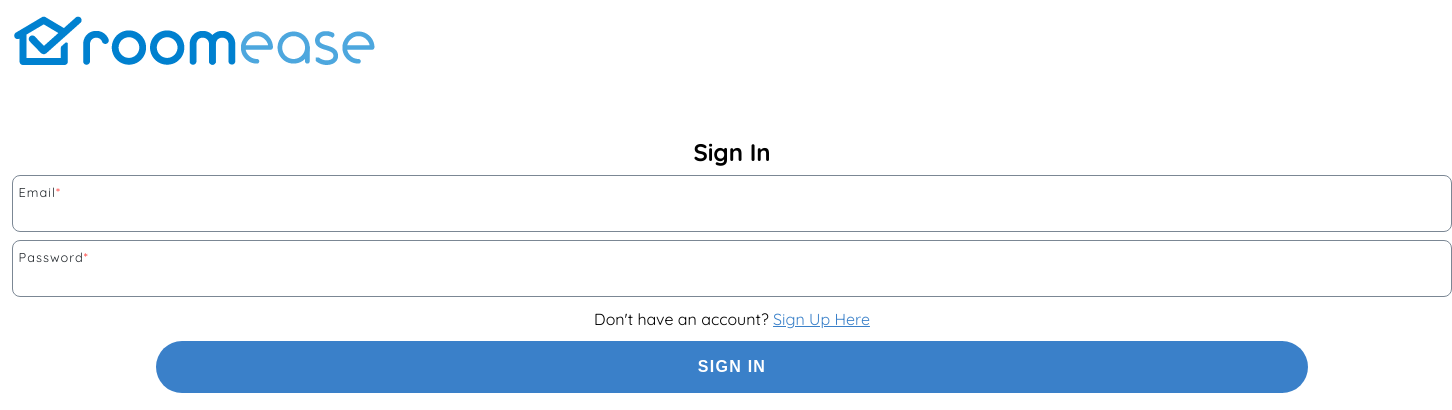
Test: Sign In Form Validation › should display all client-side errors when submitted with empty inputs
The width and height of the screenshot is (1452, 410).
In the field labelled "Email*": (732, 213) x1=17 y1=200 x2=1447 y2=227, type "mrkrabs@mrkrabs.com"
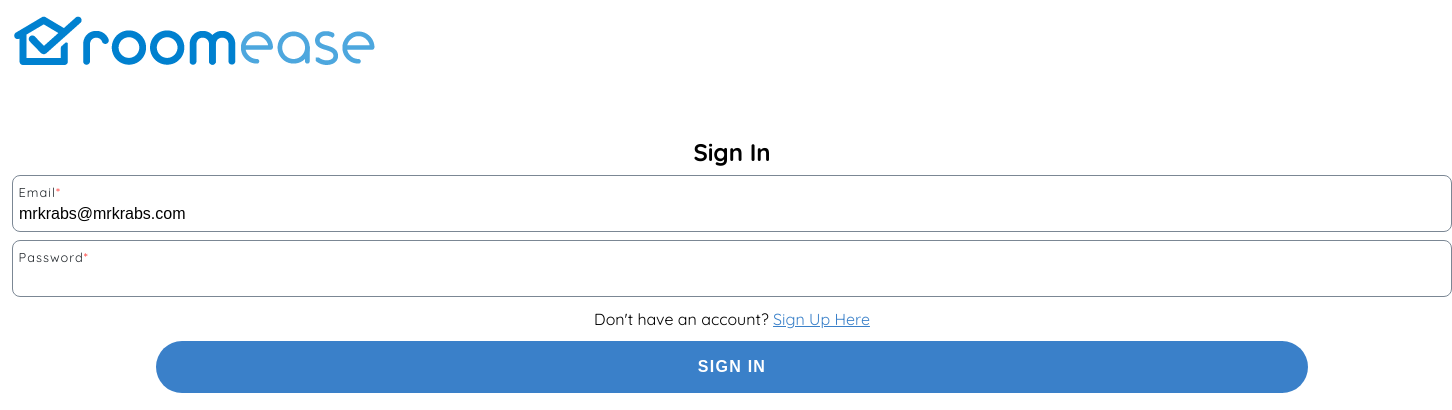
In the password field labelled "Password*": (732, 278) x1=17 y1=265 x2=1447 y2=292, type "password"
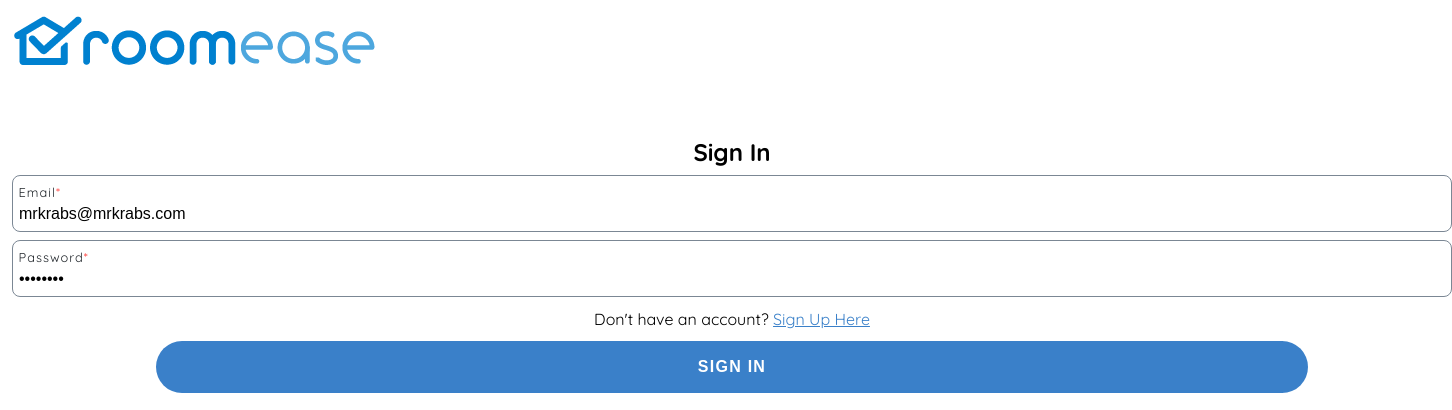
Clear the field labelled "Email*": (732, 213) x1=17 y1=200 x2=1447 y2=227
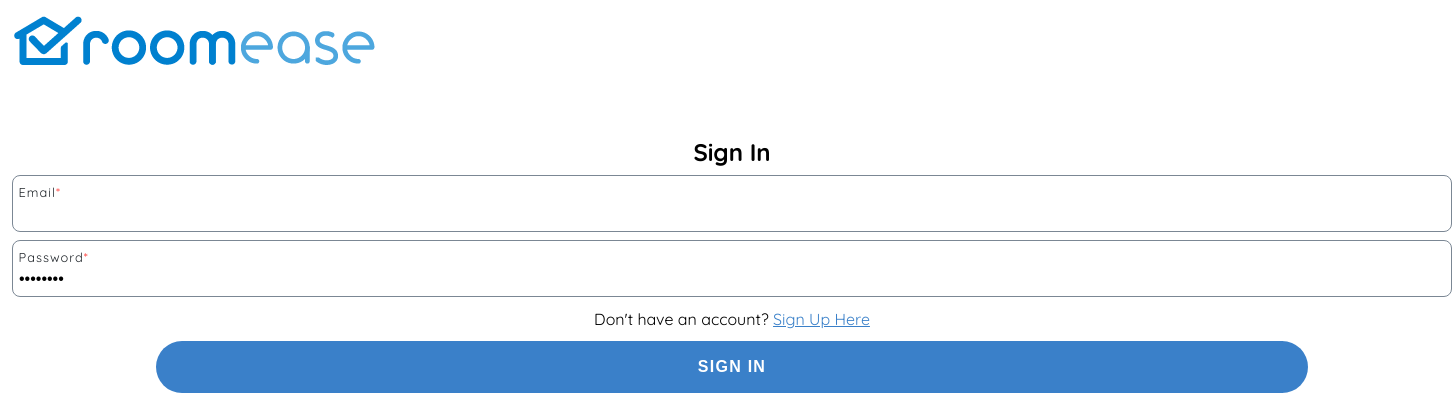
Clear the password field labelled "Password*": (732, 278) x1=17 y1=265 x2=1447 y2=292
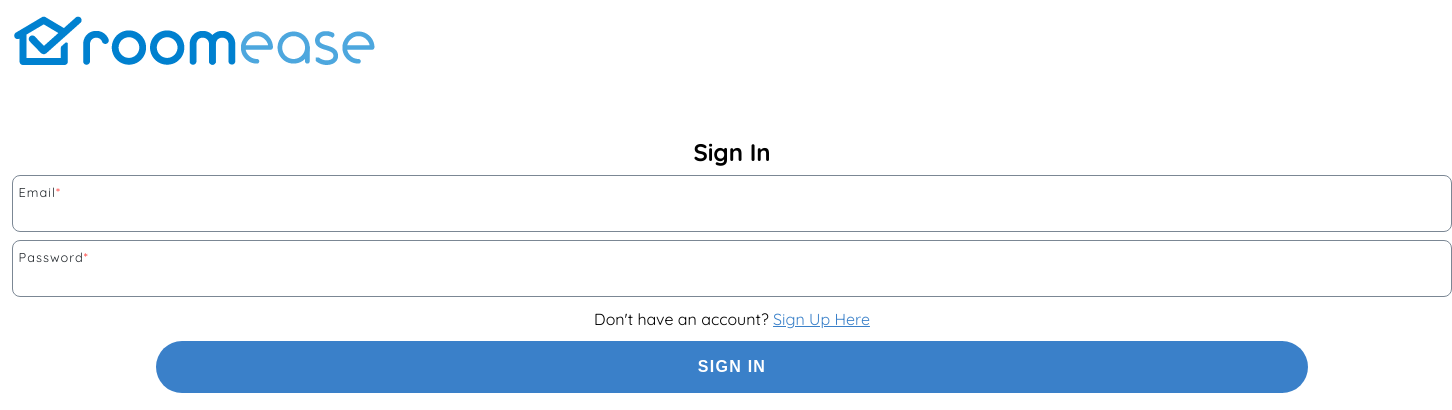
Submit the form from the button "SIGN IN", box x1=156 y1=341 x2=1308 y2=393
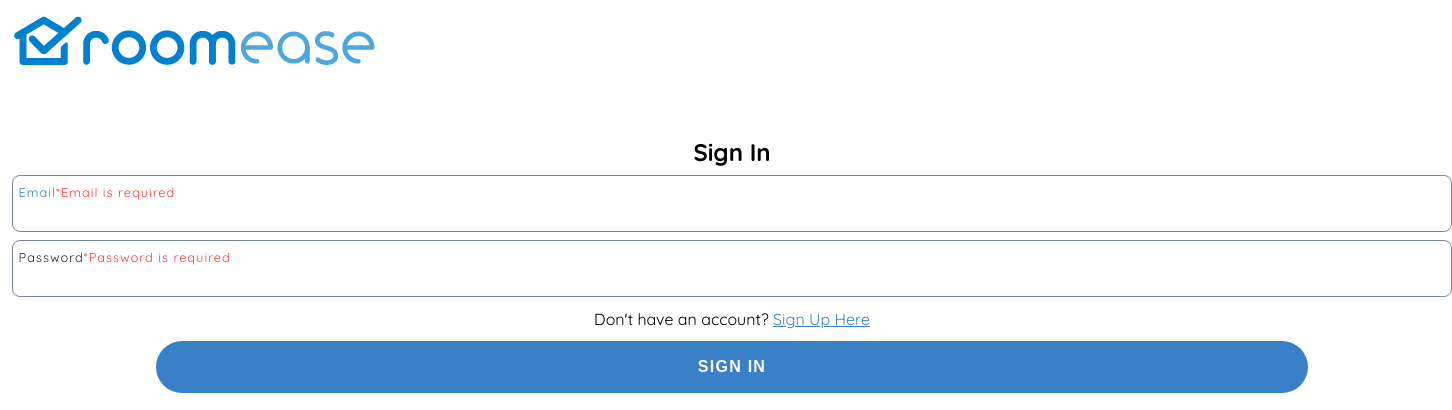
Now the number of messages is 2, box x1=61 y1=184 x2=175 y2=200; x1=89 y1=249 x2=231 y2=265
